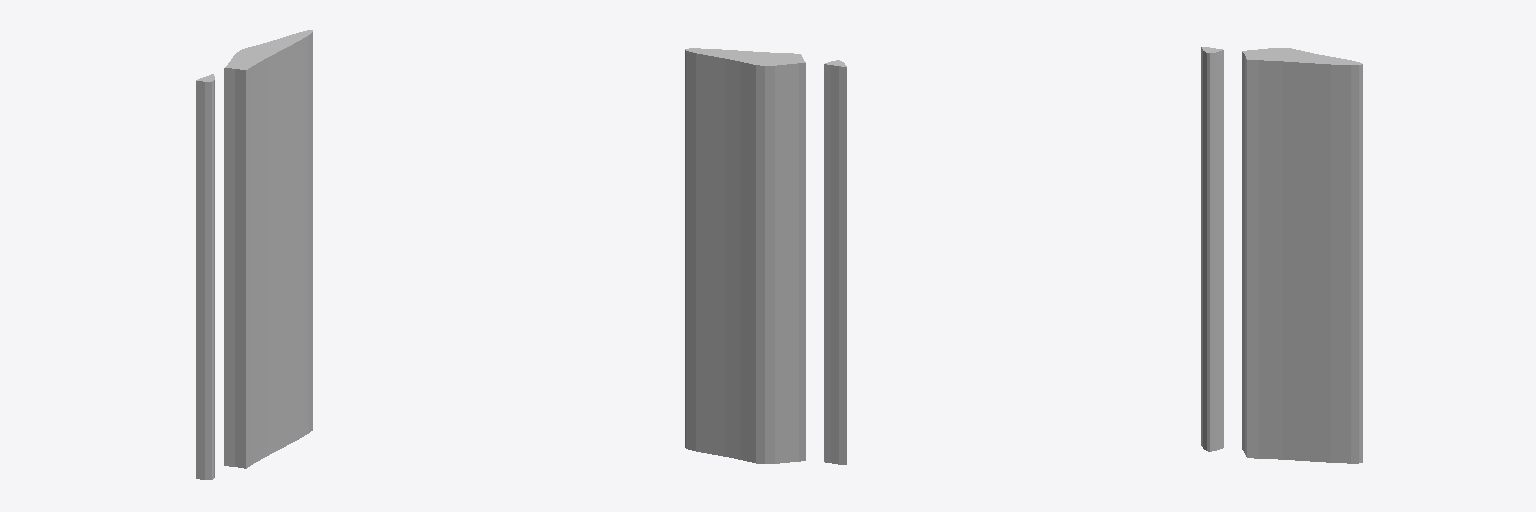
The picture shows the model from 3 angles: view 1: azimuth 30°, elevation 25°; view 2: azimuth 150°, elevation 25°; view 3: azimuth 330°, elevation 25°; orthographic projection.
Visible parts, largest first — view 1: TL.002_CUCurve.1715; view 2: TL.002_CUCurve.1715; view 3: TL.002_CUCurve.1715.
Part boxes in pixels (x1,y1,x2,y2): TL.002_CUCurve.1715: (196, 30, 312, 479); TL.002_CUCurve.1715: (685, 48, 846, 464); TL.002_CUCurve.1715: (1201, 47, 1362, 463).
Size of the model in its own units: 0.0183 by 0.05 by 0.0065.